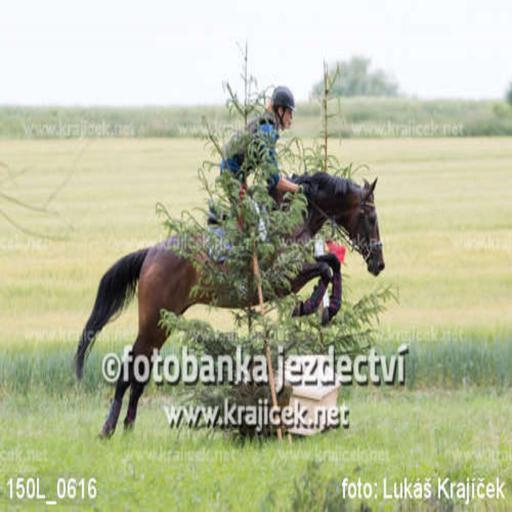horse: (68, 168, 386, 444)
